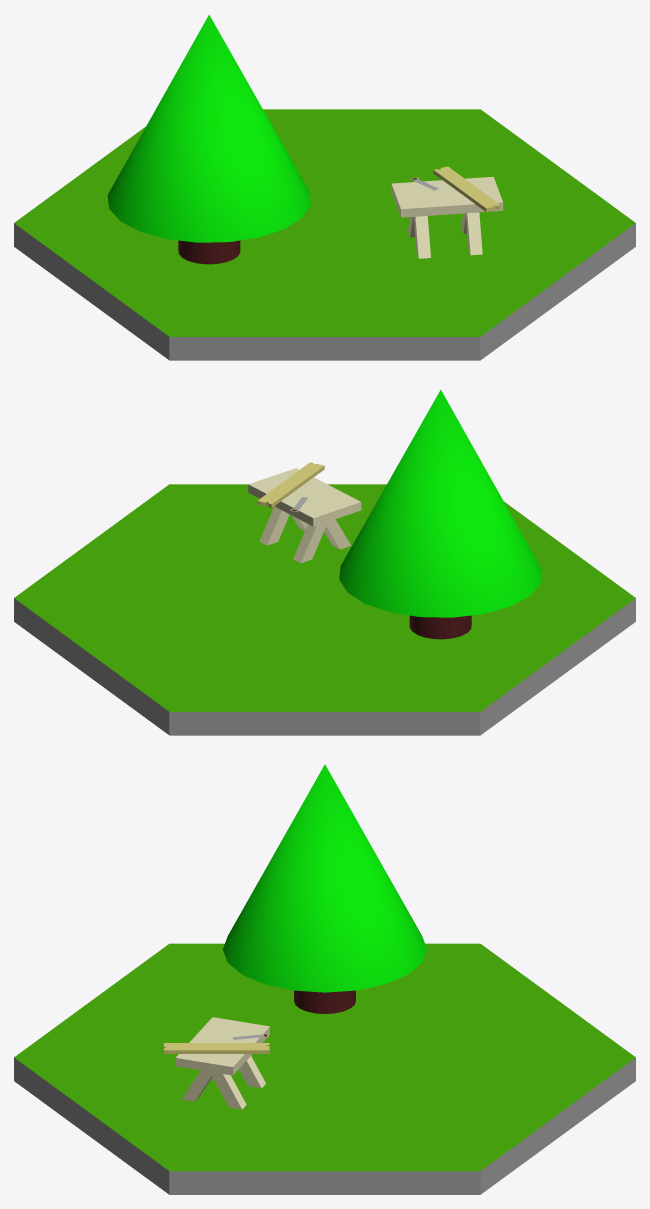
File: LumberMill.fbx
The picture shows the model from 3 angles, top to bottom: view 1: azimuth 30°, elevation 25°; view 2: azimuth 150°, elevation 25°; view 3: azimuth 270°, elevation 25°; orthographic projection.
Visible parts, largest first — view 1: Base, pCone1, pCube7, pCylinder7, Wood, pCube1, pCube5; view 2: Base, pCone1, pCube7, pCylinder7, Wood, pCube4, pCube6; view 3: Base, pCone1, pCube7, pCylinder7, Wood, pCube6.
Part boxes in pixels (x1,y1,x2,y2): Base: [14, 109, 635, 360]; pCone1: [107, 14, 310, 242]; pCube7: [391, 176, 503, 217]; pCylinder7: [178, 240, 240, 264]; Wood: [433, 166, 500, 212]; pCube1: [413, 216, 430, 258]; pCube5: [465, 212, 482, 255]; Base: [14, 484, 635, 735]; pCone1: [339, 389, 542, 617]; pCube7: [248, 468, 361, 526]; pCylinder7: [409, 615, 471, 639]; Wood: [257, 462, 324, 507]; pCube4: [293, 522, 327, 563]; pCube6: [259, 506, 289, 545]; Base: [14, 943, 635, 1194]; pCone1: [223, 764, 426, 992]; pCube7: [175, 1017, 269, 1075]; pCylinder7: [294, 990, 355, 1013]; Wood: [164, 1043, 269, 1053]; pCube6: [210, 1072, 246, 1109].
Bounding box in the file's own units: 86.6 × 46.21 × 100.
